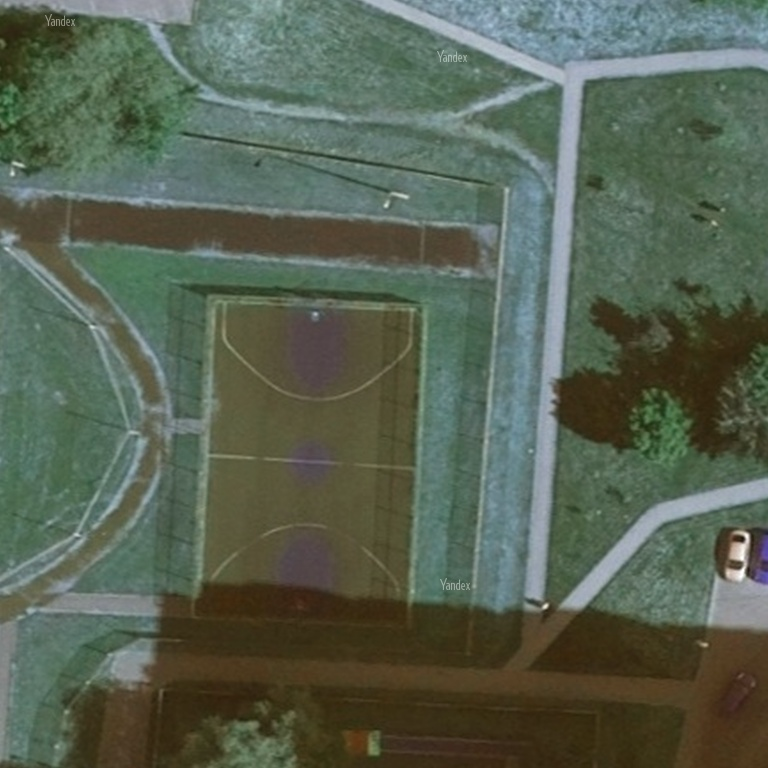basket_court: (180, 291, 436, 636)
